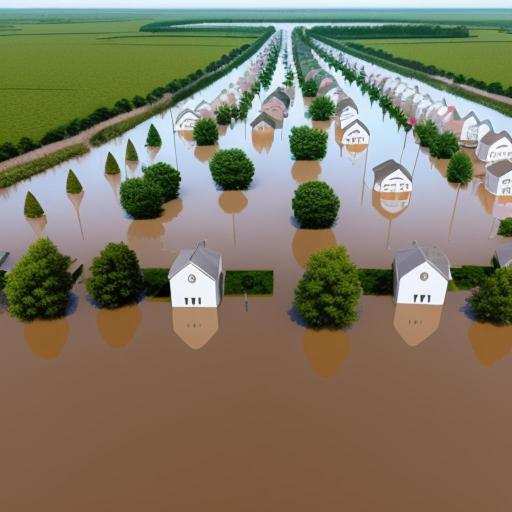flood: (0, 29, 512, 510), (401, 76, 512, 134), (320, 43, 399, 77), (274, 23, 303, 64)
house: (392, 239, 449, 313), (169, 239, 225, 313), (370, 157, 414, 193), (479, 132, 511, 164), (340, 118, 370, 151), (259, 88, 291, 118), (486, 163, 512, 197), (310, 71, 338, 101), (460, 113, 484, 147), (176, 108, 200, 142), (429, 104, 461, 126), (251, 120, 277, 145)
